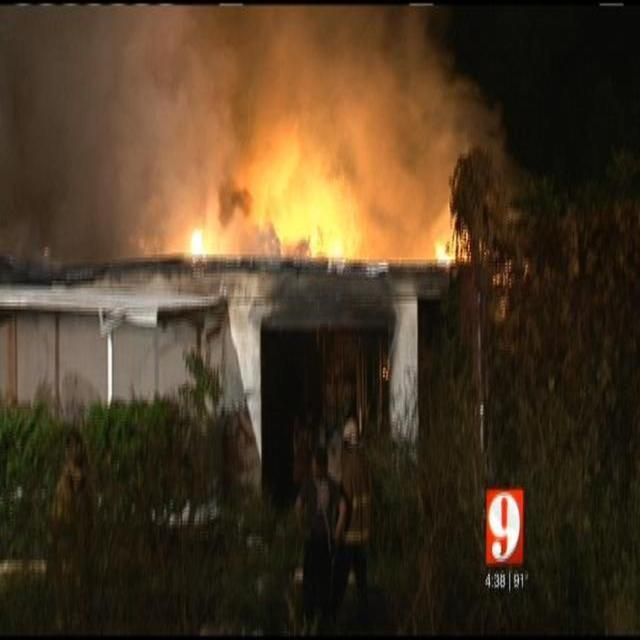Smoke: (0, 0, 575, 272)
